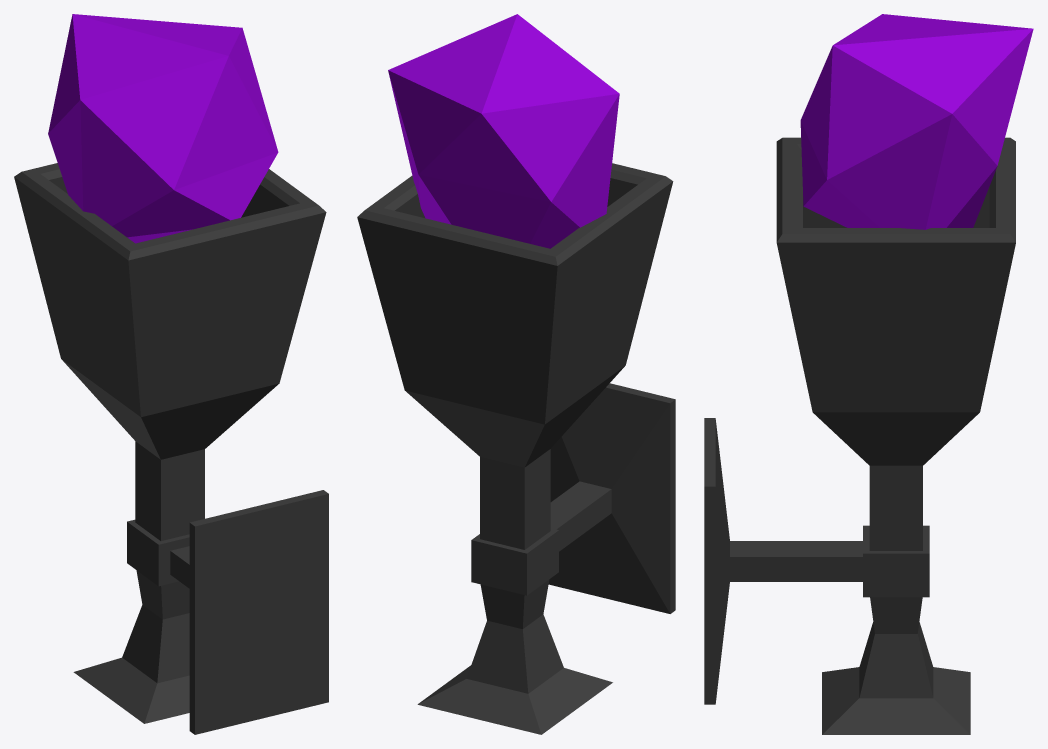
Rendered from purple_torch.fbx.
3 renders of one model, left to right at view 1: azimuth 30°, elevation 25°; view 2: azimuth 150°, elevation 25°; view 3: azimuth 270°, elevation 25°, orthographic. The views are drawn at different scales.
Visible parts, largest first — view 1: torch_holder, fire; view 2: torch_holder, fire; view 3: torch_holder, fire.
Boxes of the visible parts, x1,y1,x2,y2 form: torch_holder: (14, 163, 328, 734); fire: (48, 14, 278, 243); torch_holder: (357, 163, 675, 734); fire: (388, 14, 619, 248); torch_holder: (704, 137, 1015, 734); fire: (800, 14, 1033, 229).
Bounding box in the file's own units: 3.24 × 10.04 × 4.46.
